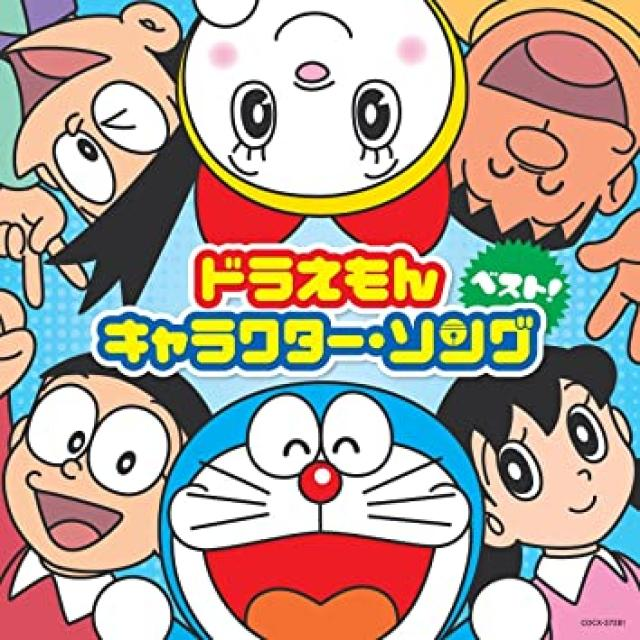doraemon: (141, 368, 490, 638)
shizuka: (434, 332, 638, 590)
